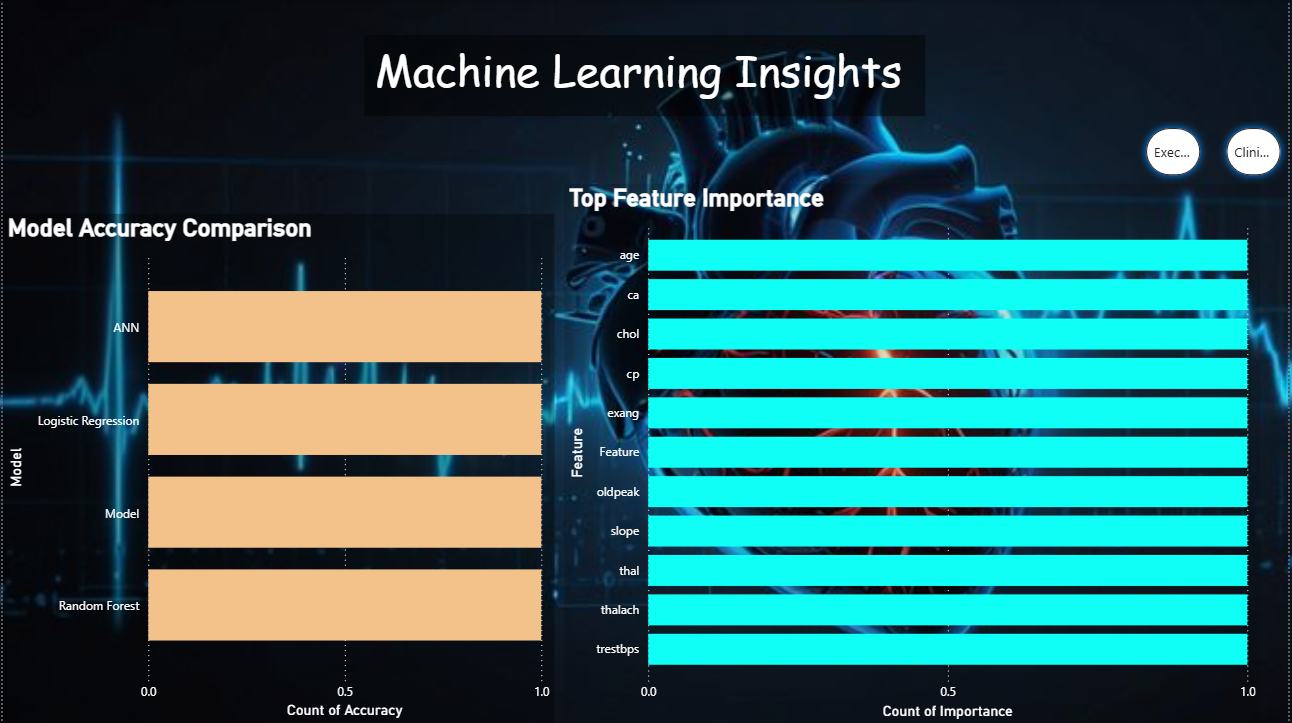

What the dashboard file says about the page in this screenshot:
{"tool":"powerbi","page":{"name":"machine Learning insights","canvas":[1280,720],"ordinal":2},"visuals":[{"type":"barChart","title":"Model Accuracy Comparison","fields":{"Category":["Model_Accuracy.Column1"],"Y":["CountNonNull(Model_Accuracy.Accuracy)"]},"box":[0,212.7,548.9,507.7],"z":0},{"type":"barChart","title":"Top Feature Importance","fields":{"Category":["Feature_importance.Feature"],"Y":["CountNonNull(Feature_importance.Importance)"]},"box":[558.5,182.5,693,537.9],"z":1000},{"type":"textbox","box":[359.5,34.3,558.5,81],"z":2000},{"type":"pageNavigator","box":[1129.5,119.4,150.5,63.4],"z":3000}]}

Visuals, with their boxes in screenshot pixels (x1, y1, x2, y2), scaled from the page's 1280x720 canvas onto the 1292x723 screenshot:
"Model Accuracy Comparison" barChart: Rect(0, 214, 554, 722)
"Top Feature Importance" barChart: Rect(564, 183, 1263, 722)
textbox: Rect(363, 34, 927, 116)
pageNavigator: Rect(1140, 120, 1291, 184)
